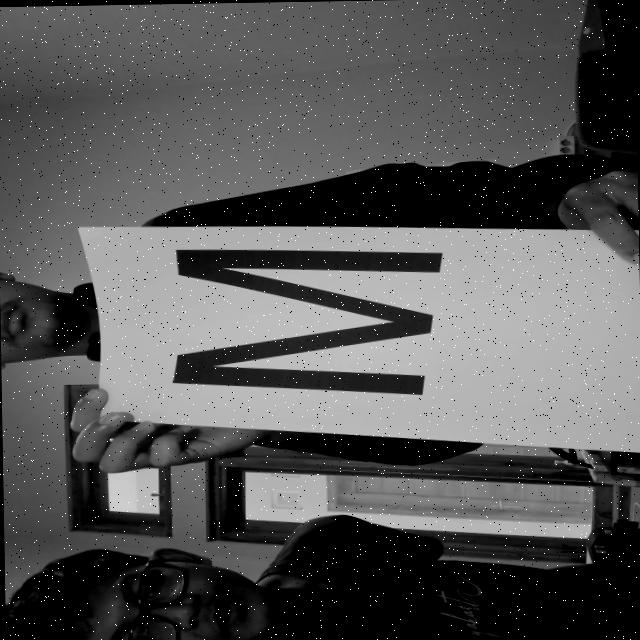m: (150, 226, 472, 406)
